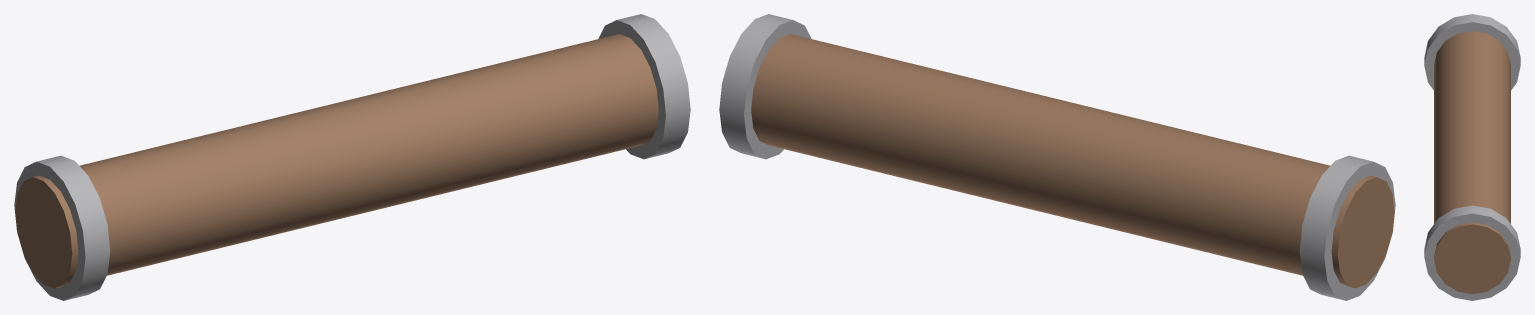
File: SM_Pipe.fbx
3 renders of one model, left to right at view 1: azimuth 30°, elevation 25°; view 2: azimuth 150°, elevation 25°; view 3: azimuth 270°, elevation 25°, orthographic. The views are drawn at different scales.
Parts seen in each view (by area): view 1: SM_Pipe; view 2: SM_Pipe; view 3: SM_Pipe.
Boxes of the visible parts, x1,y1,x2,y2 form: SM_Pipe: [14, 14, 690, 300]; SM_Pipe: [719, 14, 1395, 300]; SM_Pipe: [1424, 14, 1520, 300].
Bounding box in the file's own units: 100 × 20 × 20.
